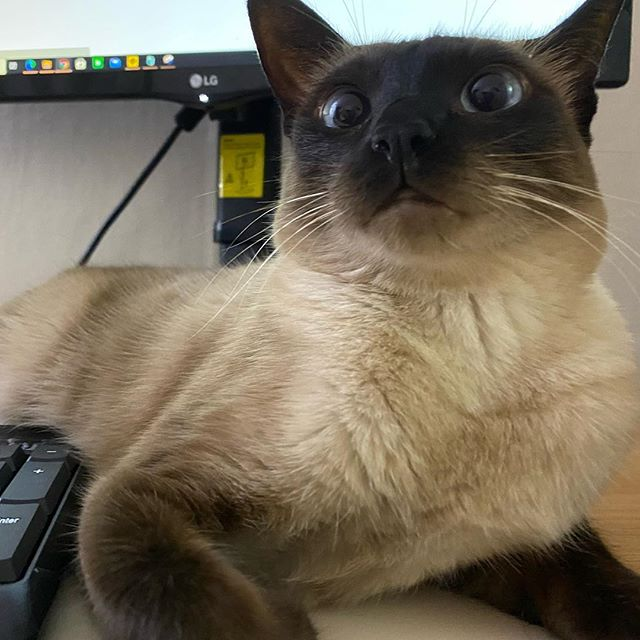cat: (242, 1, 640, 353)
